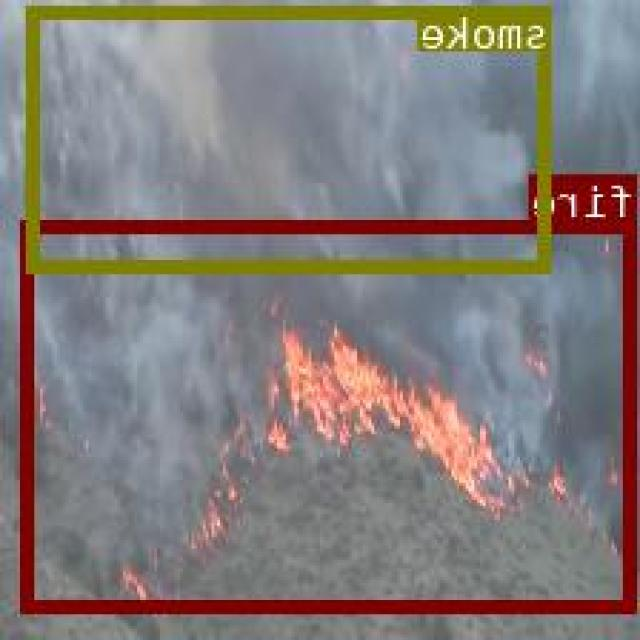fire: (25, 220, 639, 610)
smoke: (30, 4, 552, 271)
